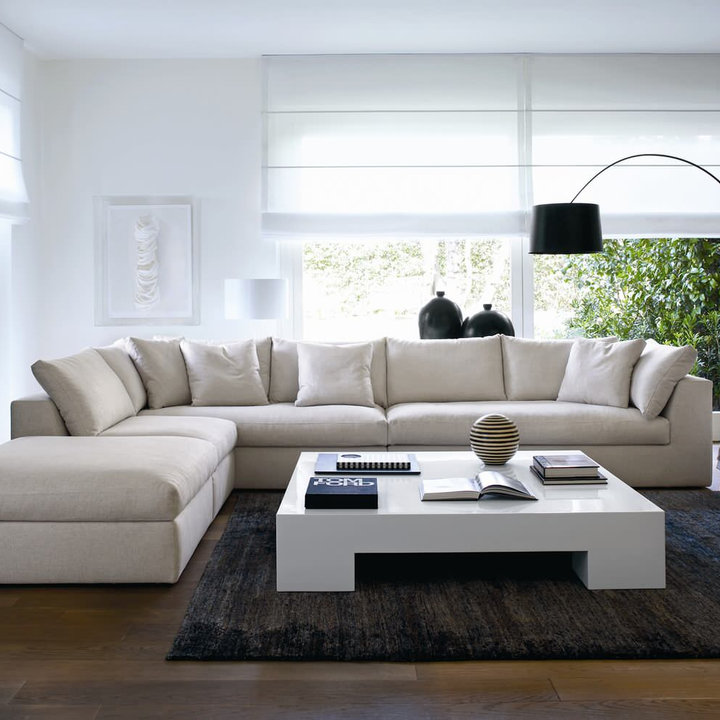floor lamp: (527, 148, 720, 261)
sofa: (3, 331, 716, 591)
table: (268, 448, 668, 597)
wall art: (91, 191, 202, 331)
